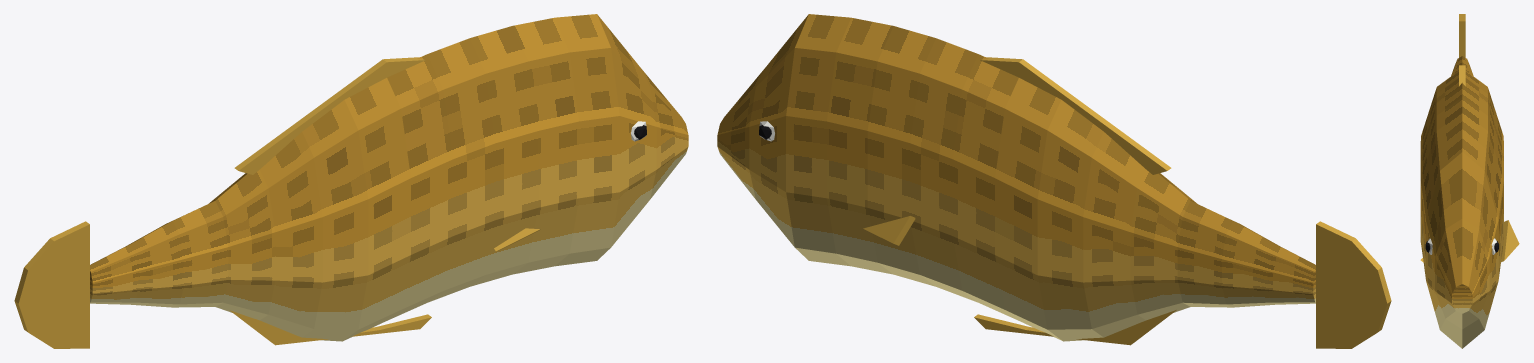
The model's file is golden_carp.glb.
3 views of the same model, side by side, from view 1: azimuth 30°, elevation 25°; view 2: azimuth 150°, elevation 25°; view 3: azimuth 270°, elevation 25° (orthographic). The views are drawn at different scales.
Parts seen in each view (by area): view 1: fish_golden_carp; view 2: fish_golden_carp; view 3: fish_golden_carp.
Boxes of the visible parts, bbox=[...] form: fish_golden_carp: bbox=[14, 14, 688, 348]; fish_golden_carp: bbox=[717, 14, 1391, 348]; fish_golden_carp: bbox=[1420, 14, 1519, 348].
Size of the model in its own units: 1.12 by 0.4484 by 0.1813.
4 materials, 1 textured.
